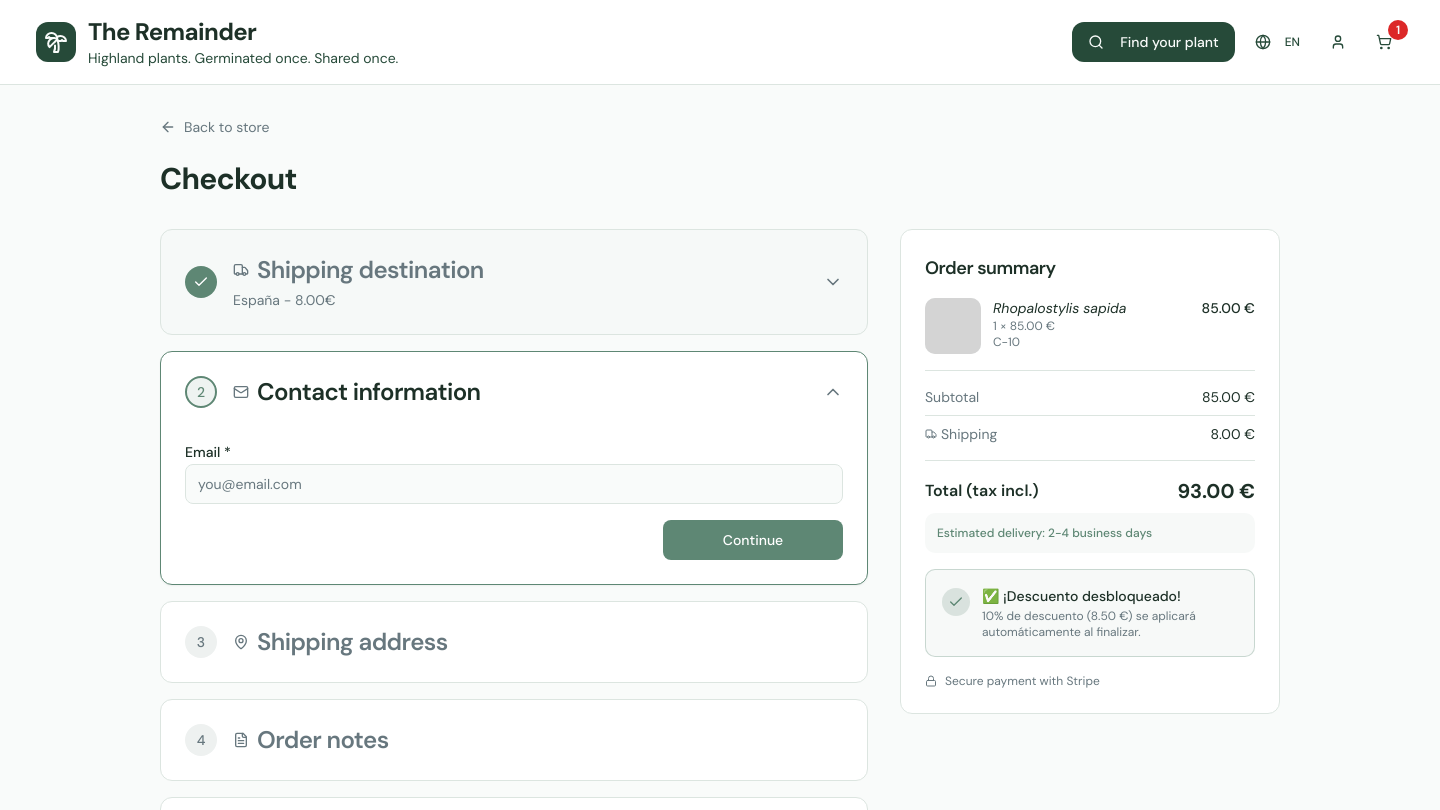
Checkout — full flow › completes all steps up to payment
Earlier steps of the test are not shown.
In the field with id "email": (514, 484) [185, 464, 843, 504], type "test@test.com"
Click the button "Continue": (753, 540) [663, 520, 843, 560]
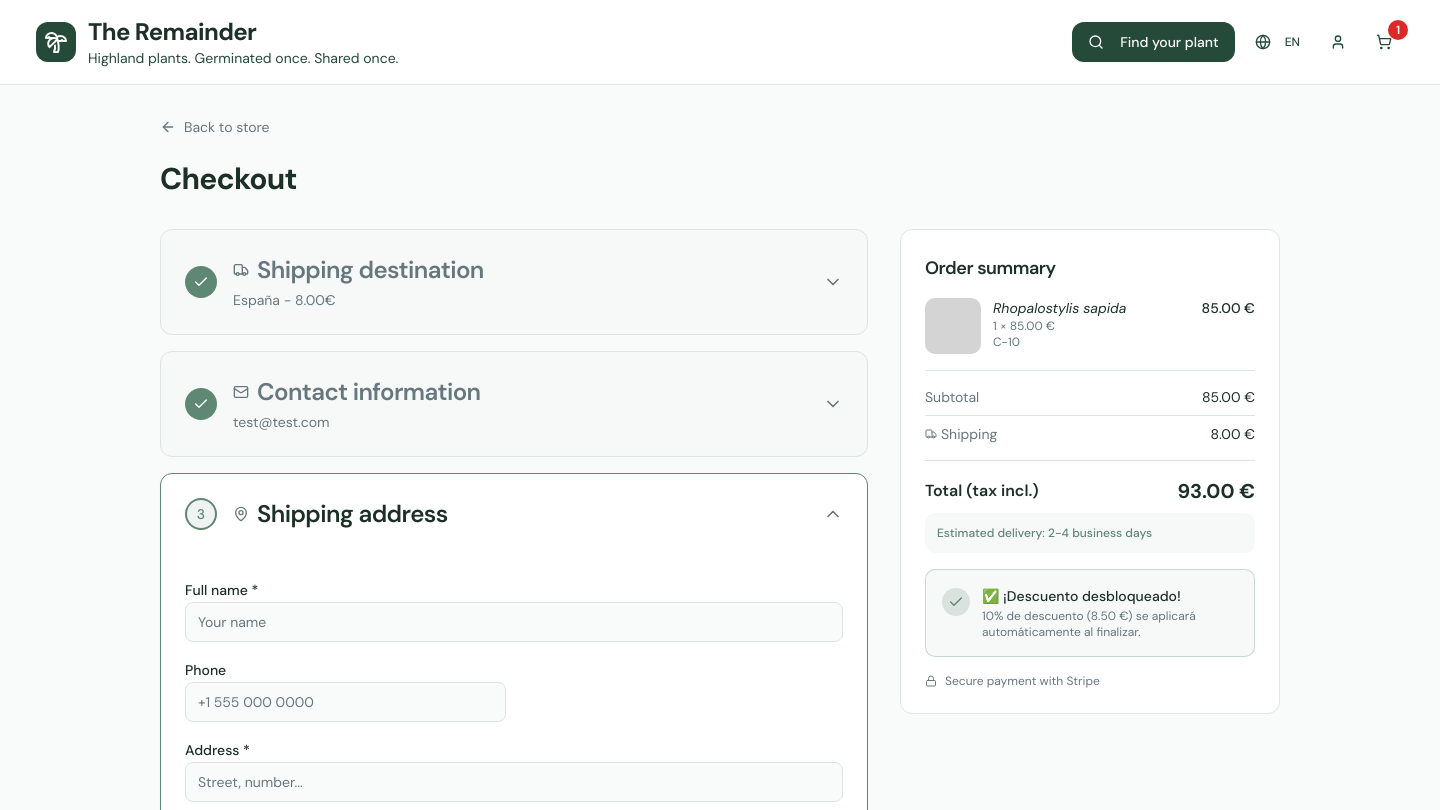
Expected: the field with id "fullName" is shown
# Address — fill all required fields
In the field with id "fullName": (514, 622) [185, 602, 843, 642], type "Juan García"
In the field with id "street": (514, 782) [185, 762, 843, 802], type "Calle Mayor 1"
(page scrolled)
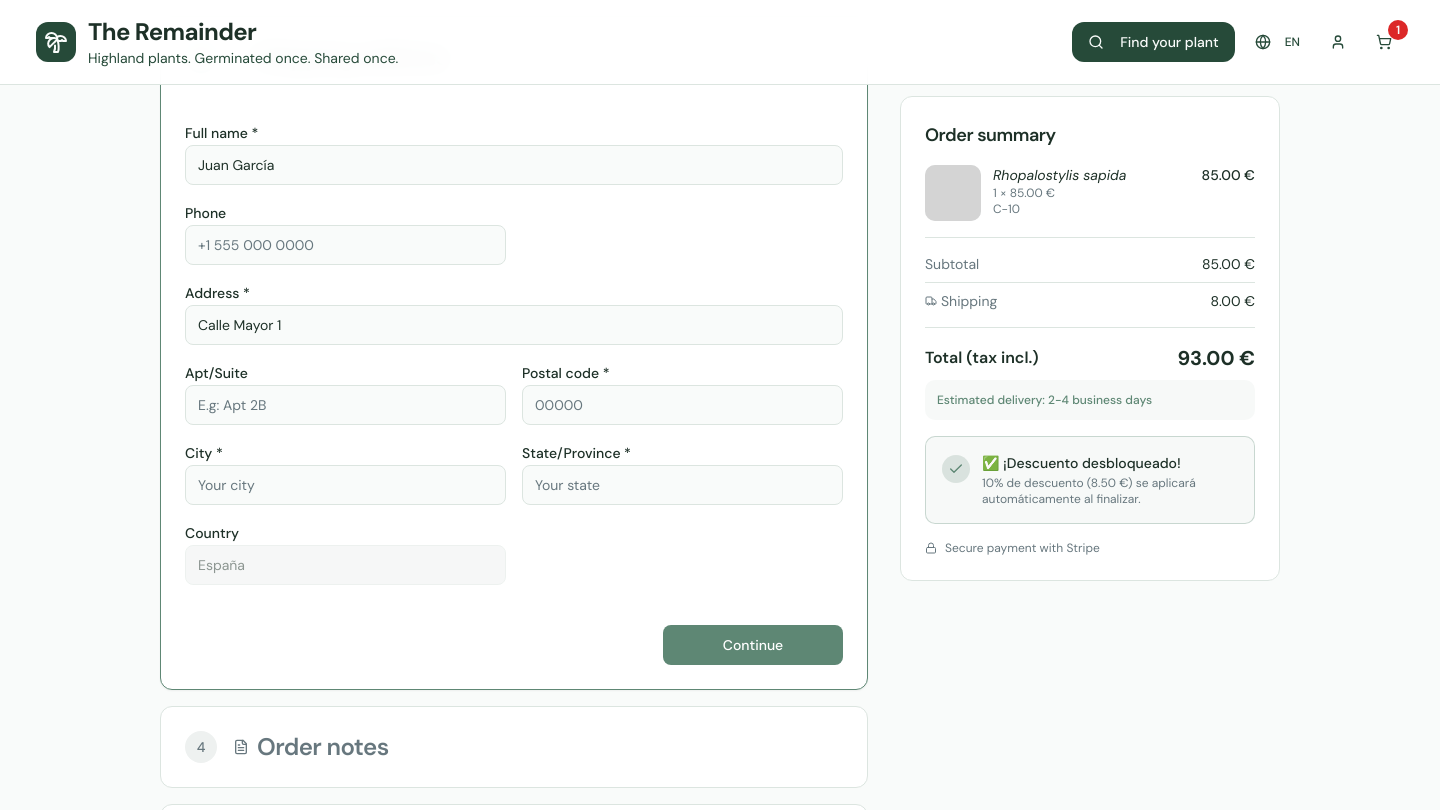
In the field labelled "Postal code *": (682, 405) [522, 385, 843, 425], type "28001"
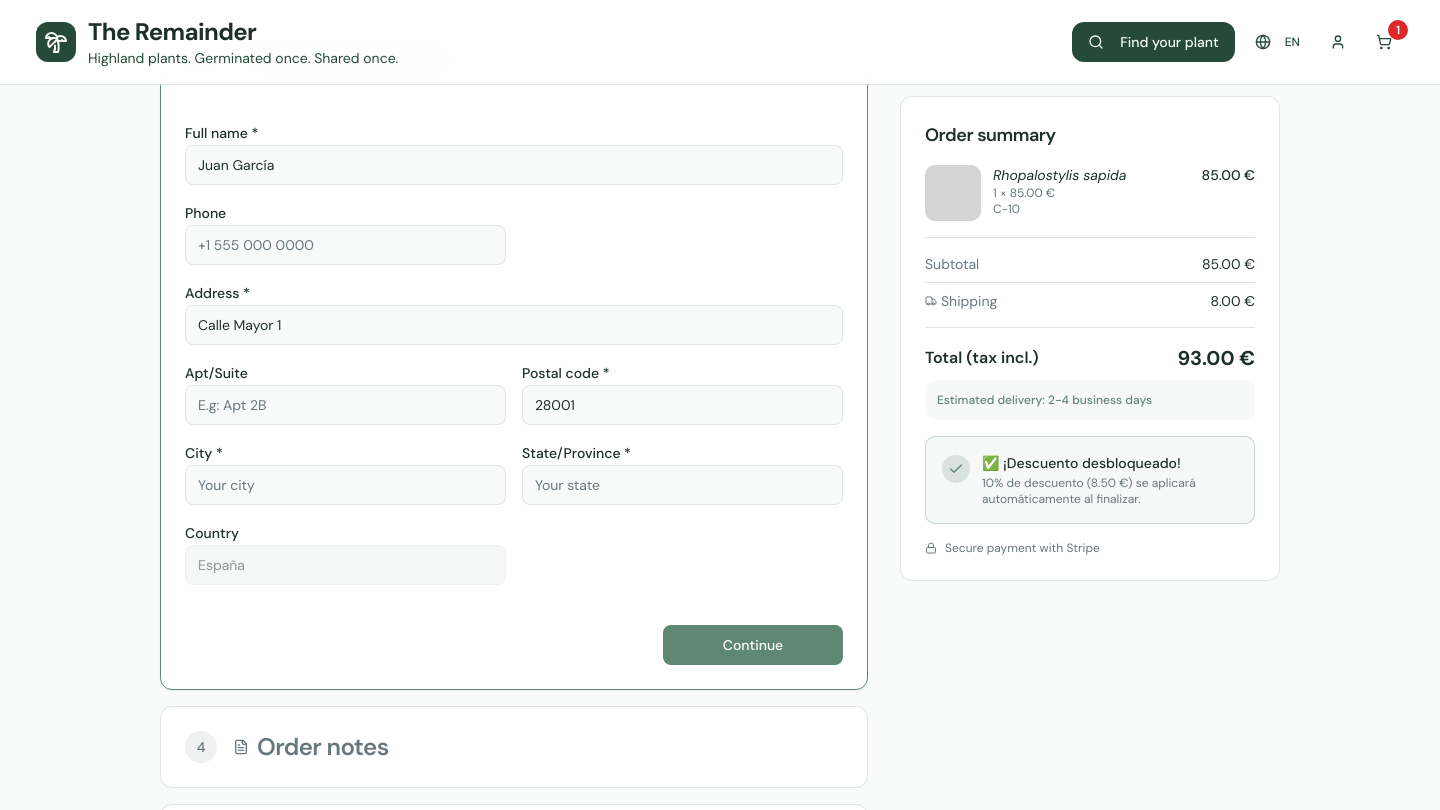
In the field with id "city": (346, 485) [185, 465, 506, 505], type "Madrid"
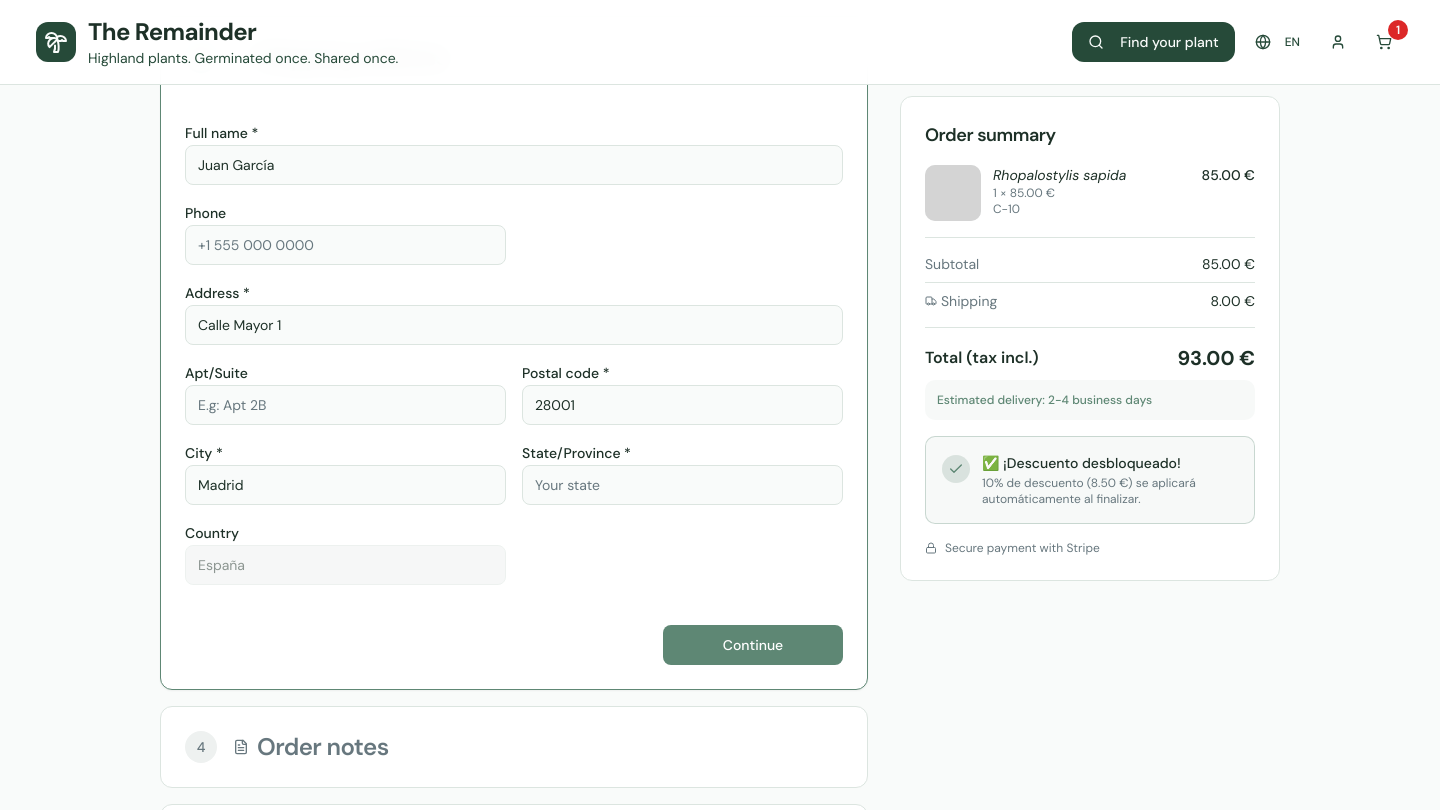
In the field labelled "State/Province *": (682, 485) [522, 465, 843, 505], type "Madrid"
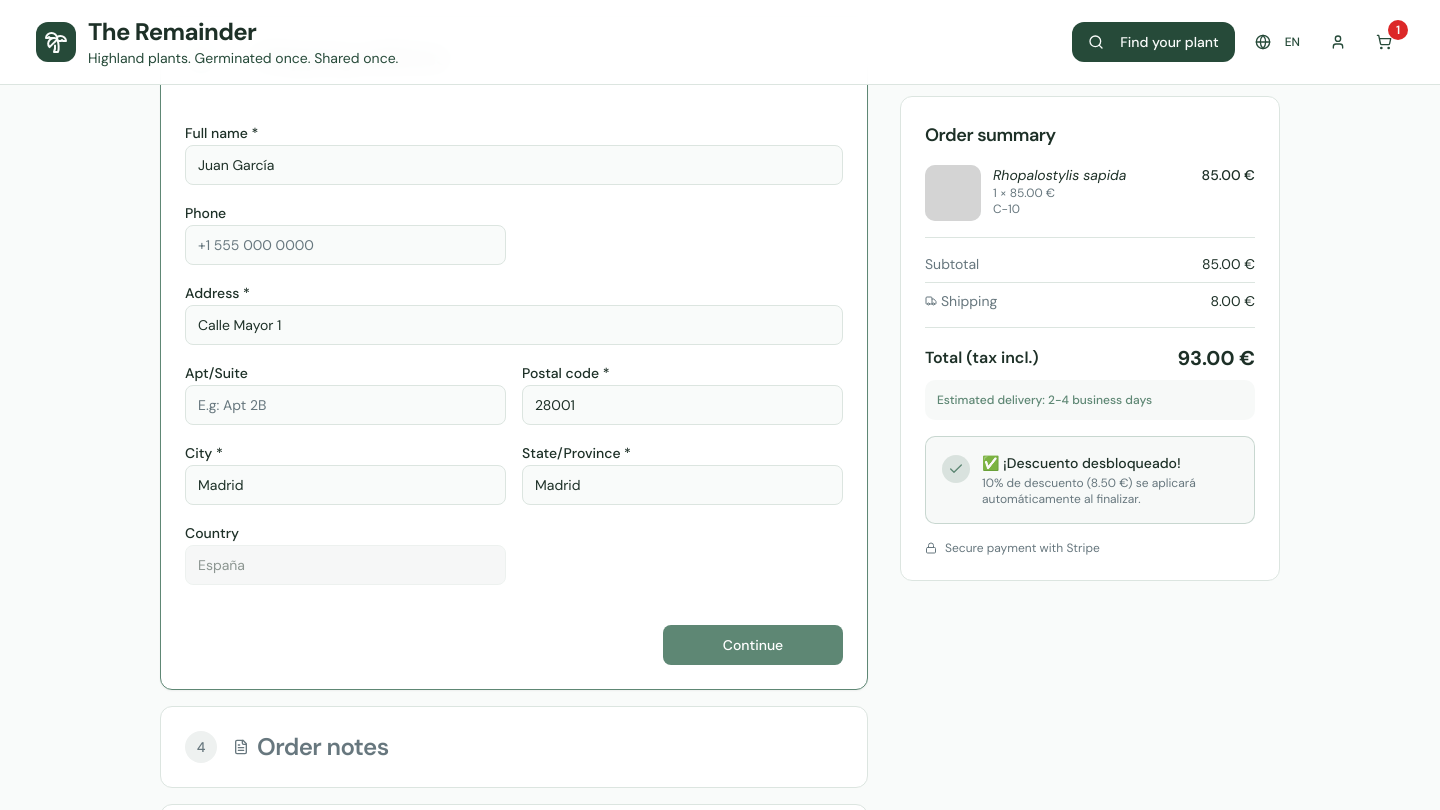
Click the button "Continue": (753, 645) [663, 625, 843, 665]
(page scrolled)
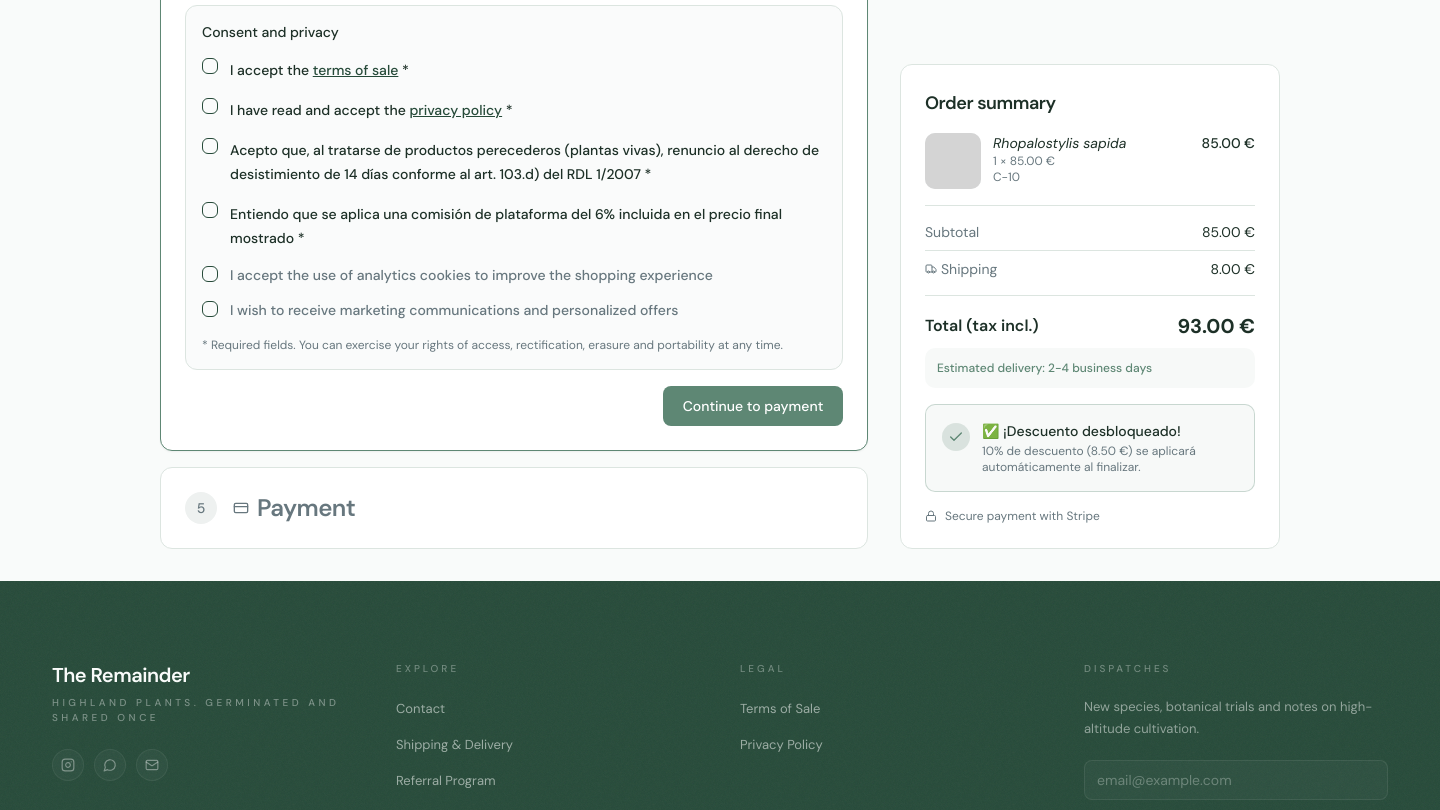
Expected: the button "Continue to payment" is shown, [663, 386, 843, 426]
